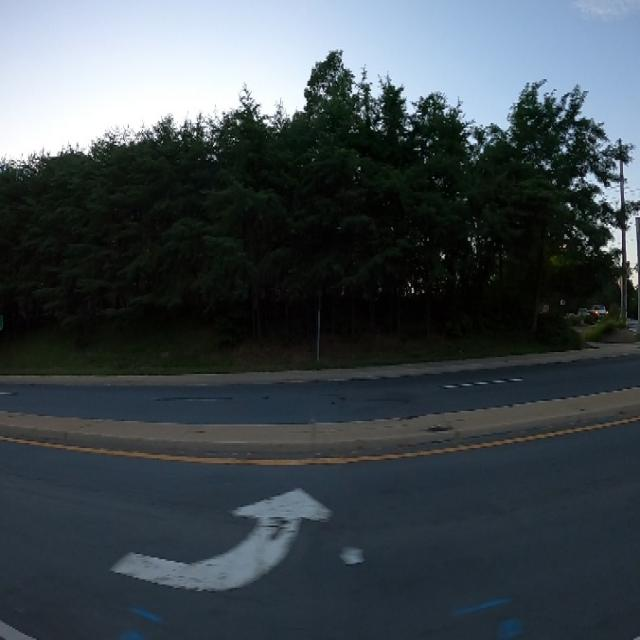Cars: (596, 303, 614, 322)
